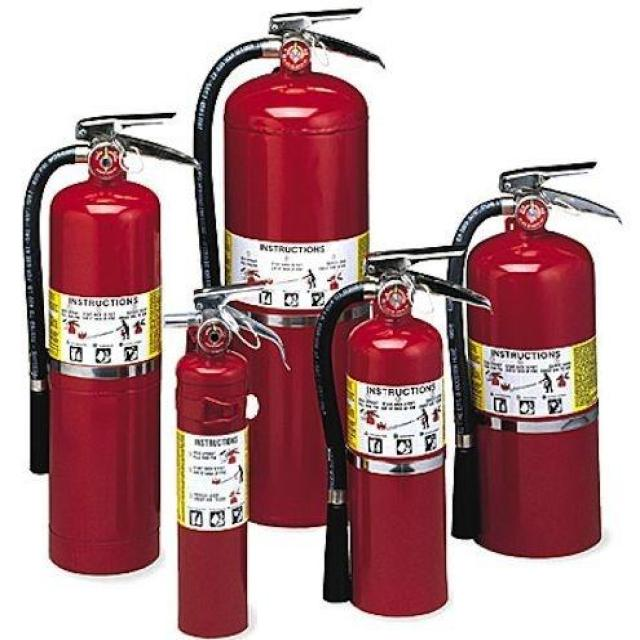fire_extinguisher: (187, 3, 388, 534), (16, 107, 204, 582), (440, 155, 626, 561), (312, 243, 495, 619), (153, 276, 292, 639)
